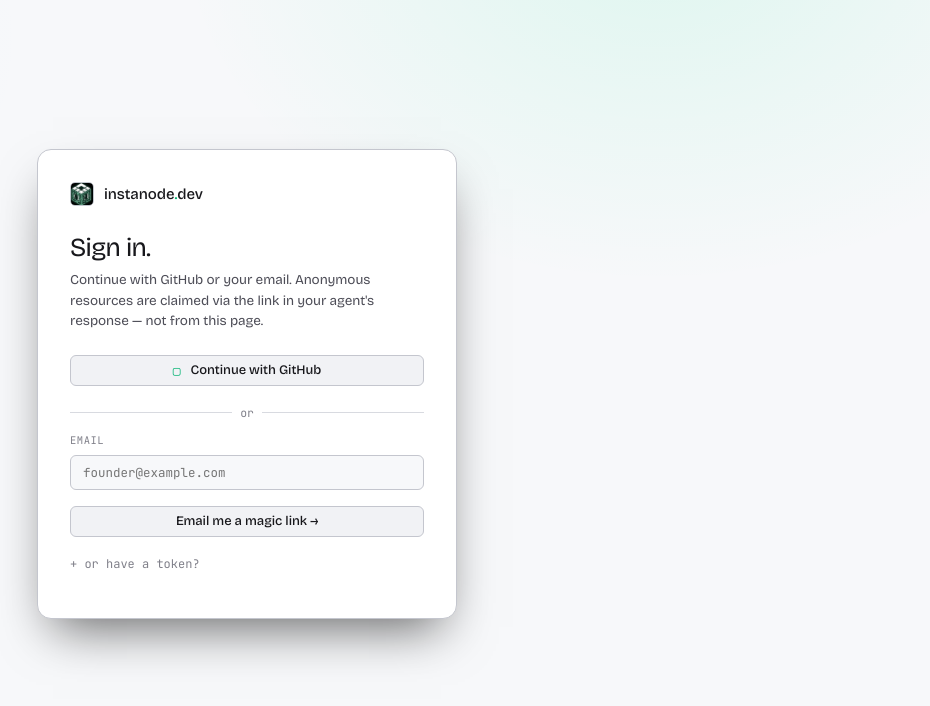
Scenario: LoginPage › sends a magic link and shows the sent confirmation
In the field with test id "email-input": (247, 473) [70,455,424,490], type "founder@acme.dev"
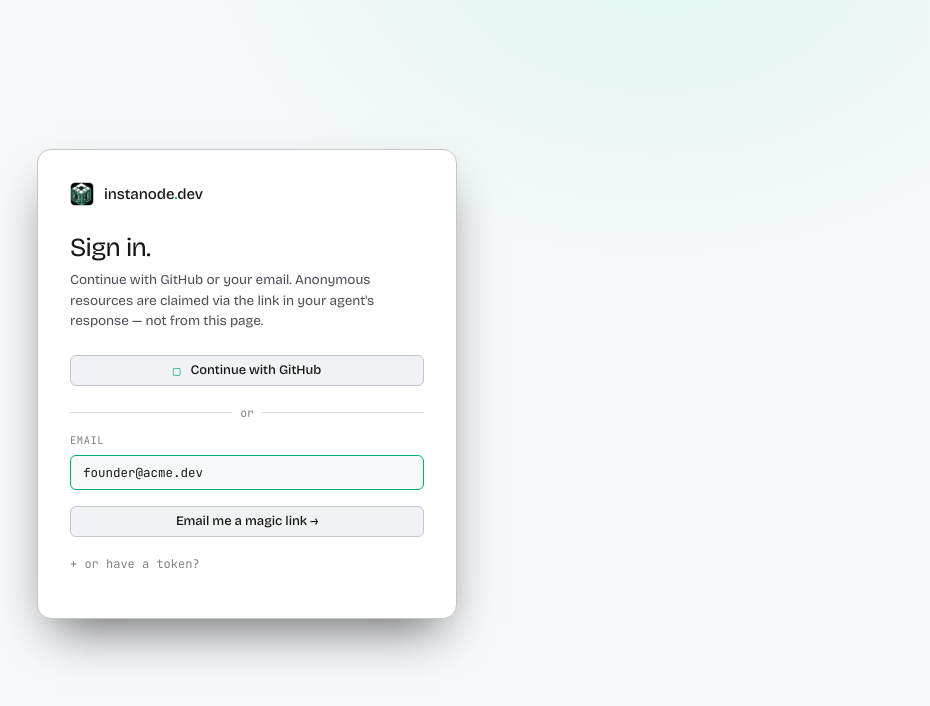
Click the button with test id "email-submit": (247, 522) [70,506,424,537]
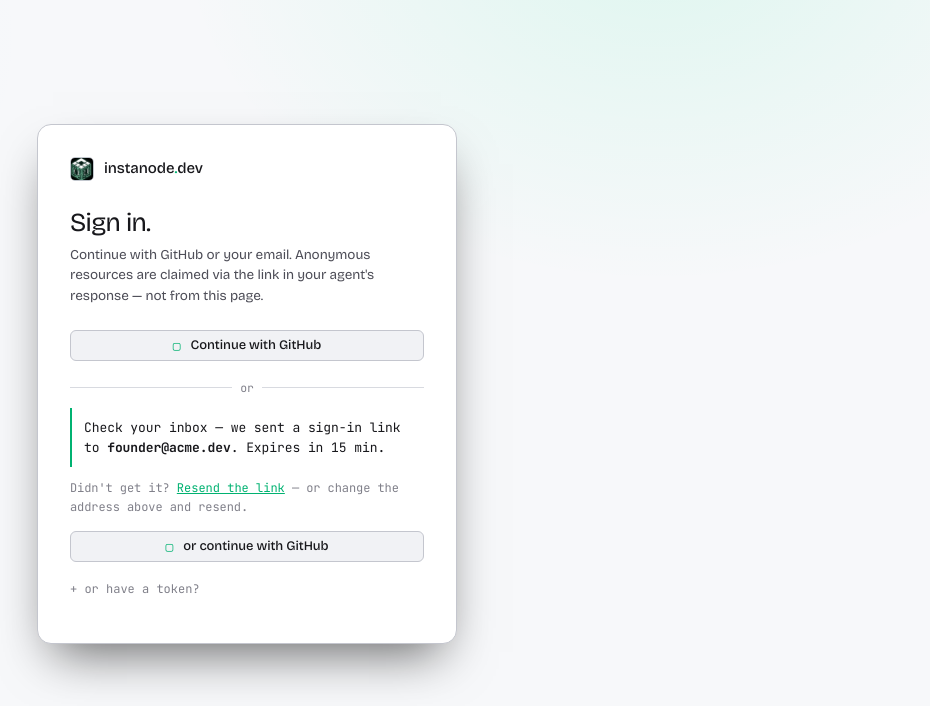
Expected: the element with test id "magic-link-sent" is shown, [70,408,424,562]
Expected: the element with test id "magic-link-sent" shows "founder@acme.dev", [107,439,231,456]
